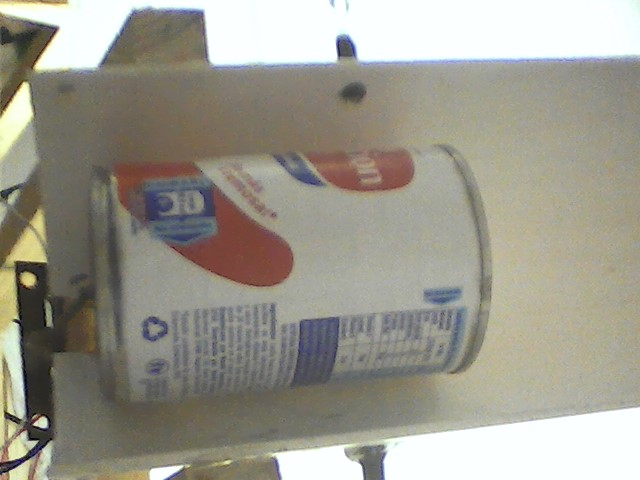lata: (80, 144, 503, 409)
